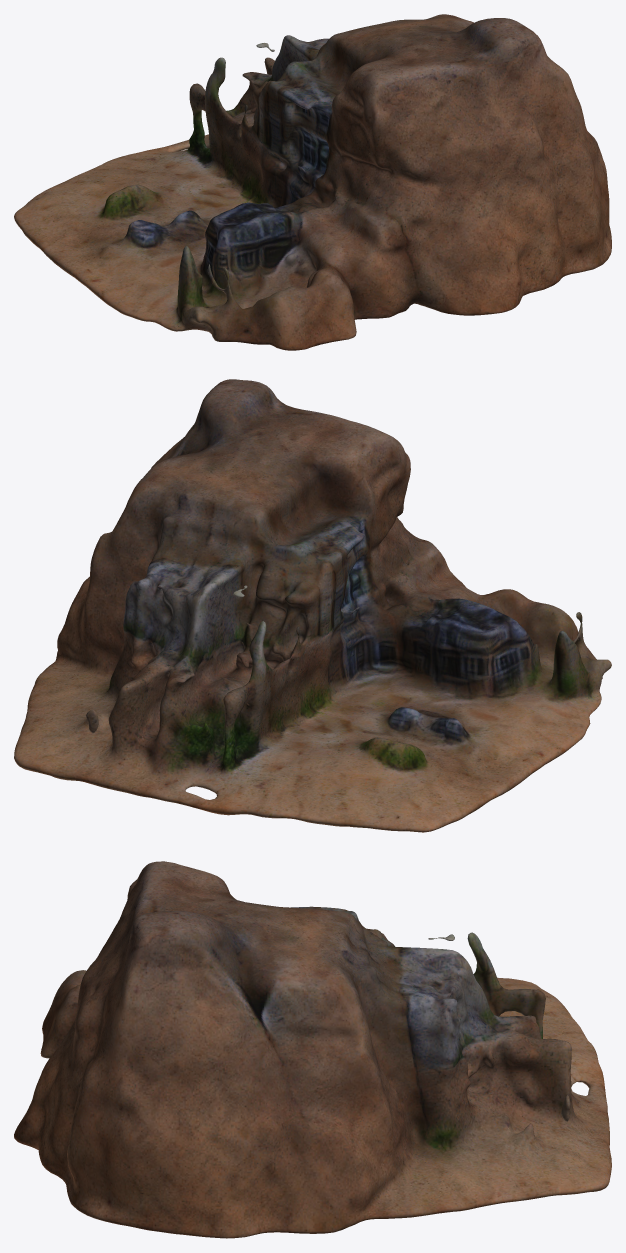
Rendered from hobbitmountain.glb.
3 renders of one model, top to bottom at view 1: azimuth 30°, elevation 25°; view 2: azimuth 150°, elevation 25°; view 3: azimuth 270°, elevation 25°, orthographic. The views are drawn at different scales.
Parts seen in each view (by area): view 1: model; view 2: model; view 3: model.
Part boxes in pixels (x1,y1,x2,y2): model: (14,14,611,350); model: (14,379,611,832); model: (14,861,611,1238).
Size of the model in its own units: 1.52 by 0.7087 by 1.46.
Materials: 1 (1 with a texture image).
